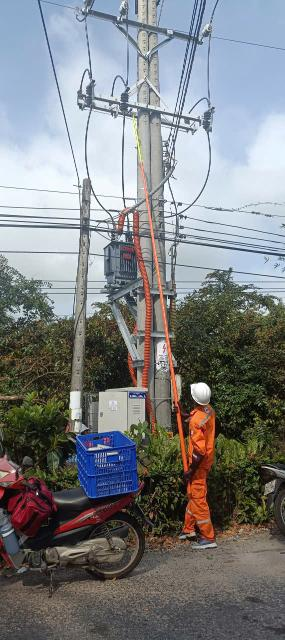gloves: (182, 449, 204, 480)
helmet: (183, 377, 215, 406)
shoes: (188, 538, 218, 551), (178, 527, 197, 540)
